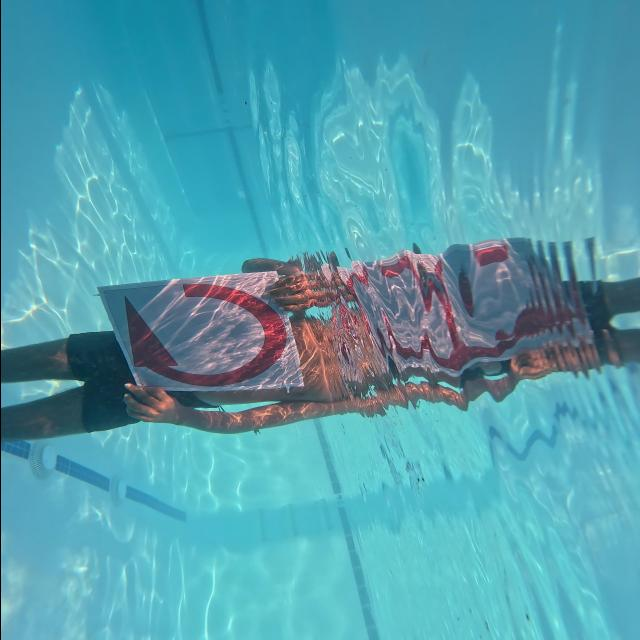red_side: (106, 280, 301, 391)
